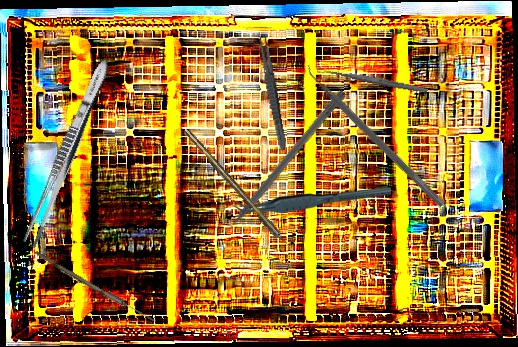Dressing Forceps: (20, 54, 115, 252), (254, 30, 290, 152)
Hook Surgical: (182, 126, 298, 258)
Pusher: (212, 87, 348, 246)
Spatula Surgical: (300, 61, 452, 208)
Surgical Spoon: (33, 250, 158, 325), (316, 65, 429, 95)
Tissue Forceps: (233, 186, 391, 214)
